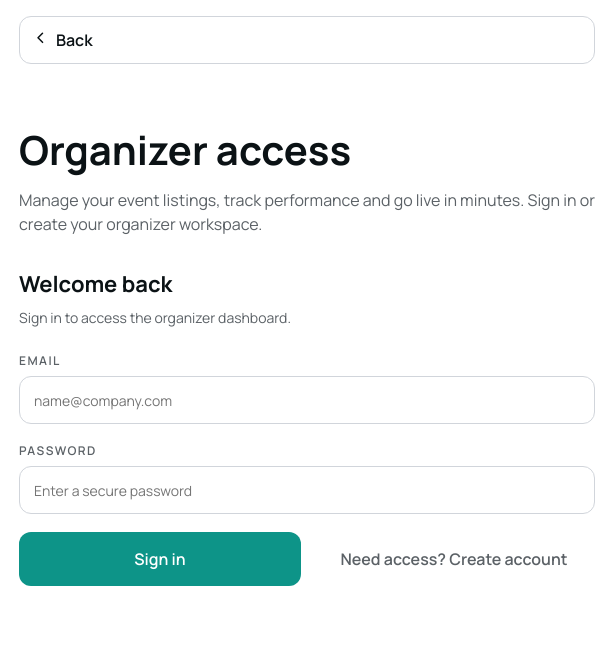
Authentication flows › prevents non-organizer access in organizer login
The image size is (615, 668).
Type "member@example.com" into the field labelled "Email" at x=307, y=400, box [19,376,595,424]
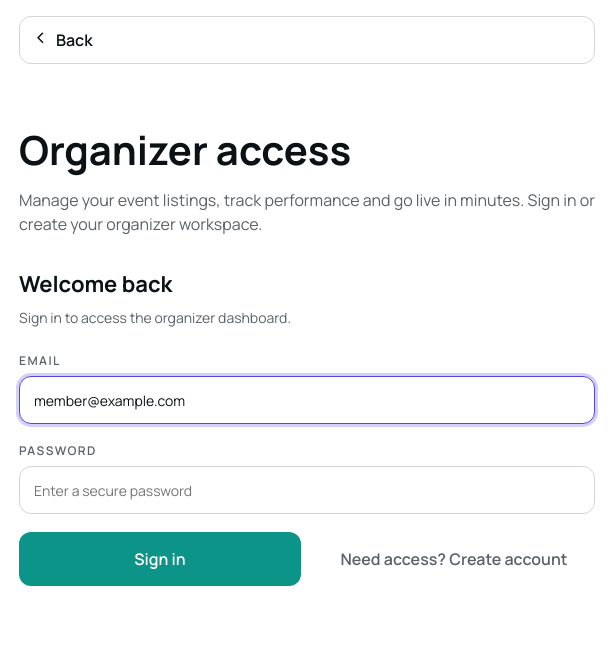
Type "memberpass" into the password field labelled "Password" at x=307, y=490, box [19,466,595,514]
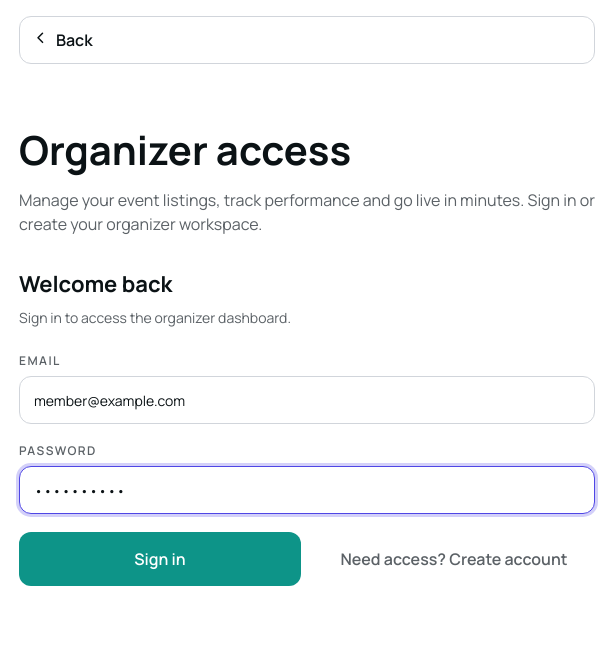
Click the button "Sign in" at x=160, y=559, box [19,532,301,586]
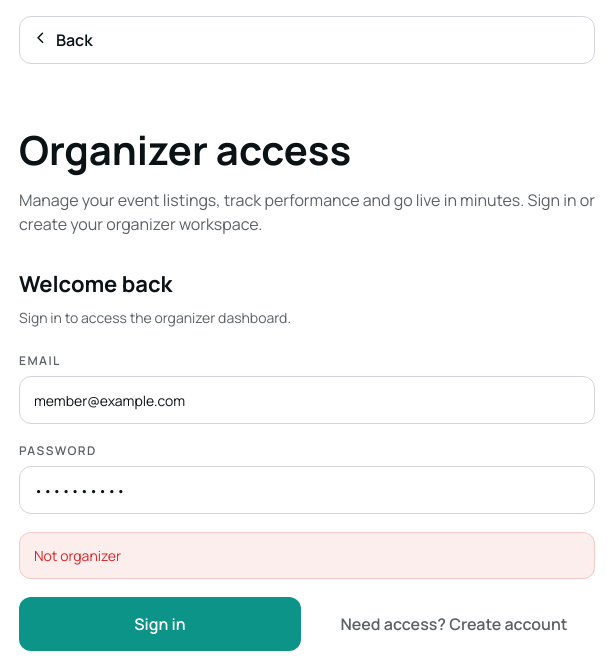
Check: the text "Not organizer" is shown, box [19,532,595,579]
